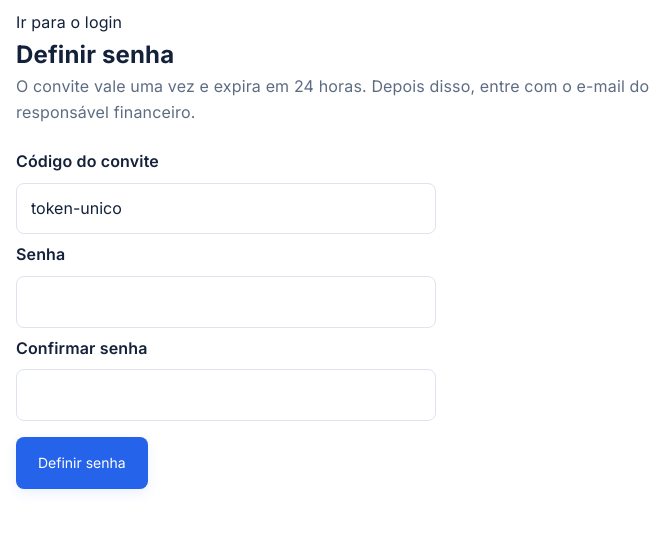
api error stays on the form
In the password field labelled "Senha": (226, 302) [16,276,436,328], type "senha123"
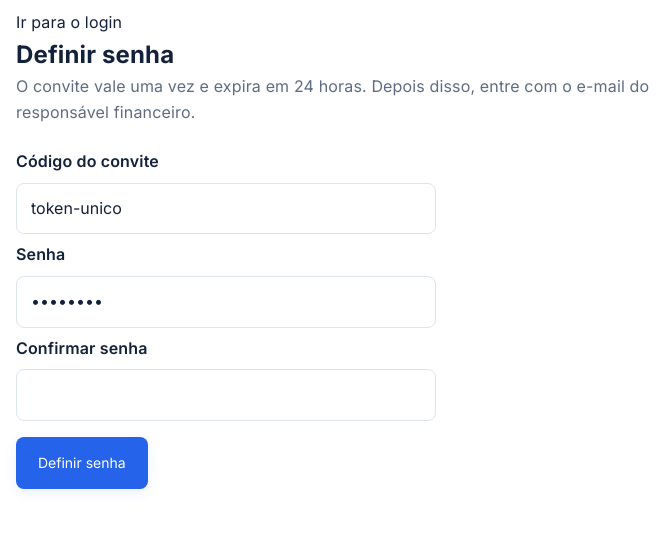
In the password field labelled "Confirmar senha": (226, 395) [16,369,436,421], type "senha123"
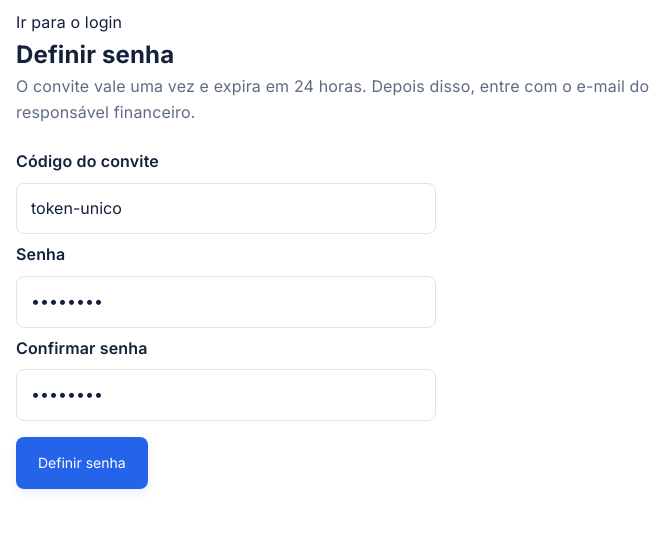
Click the button "Definir senha": (82, 463) [16,437,148,489]
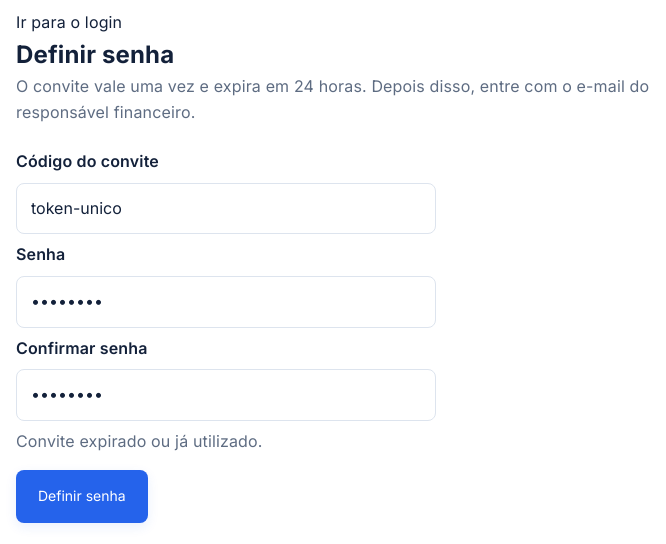
Now the message reads "Convite expirado ou já utilizado.", box [16,431,263,451]
